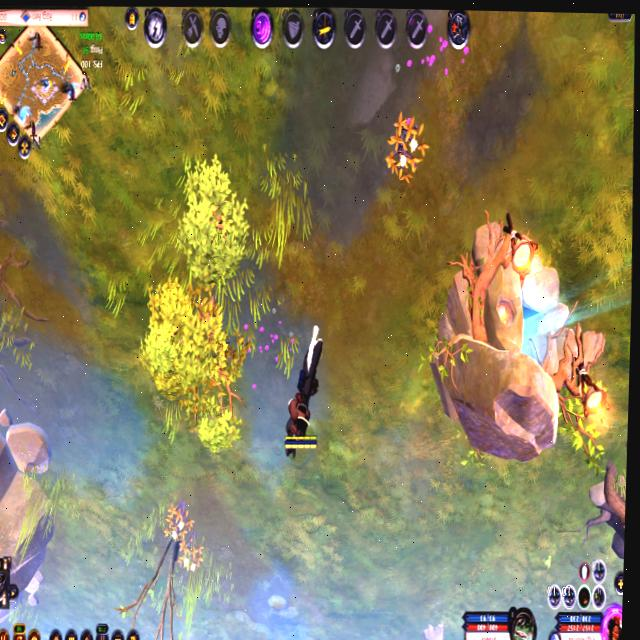hide: (381, 105, 437, 195), (173, 526, 212, 587), (163, 487, 194, 546)
red: (271, 321, 335, 475)
